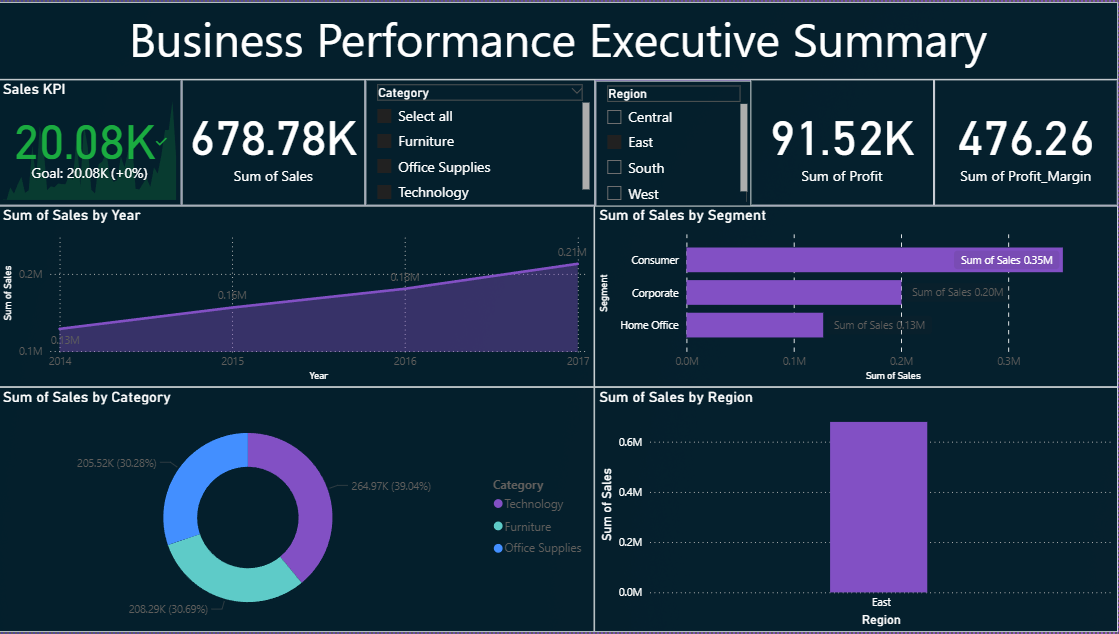

The page's visual inventory and layout, read from the dashboard file:
{"tool":"powerbi","page":{"name":"Page 1","canvas":[1280,720],"ordinal":0},"visuals":[{"type":"lineChart","fields":{"Category":["Superstore_clean.MonthYear.Variation.Date Hierarchy.Year","Superstore_clean.MonthYear.Variation.Date Hierarchy.Quarter","Superstore_clean.MonthYear.Variation.Date Hierarchy.Month","Superstore_clean.MonthYear.Variation.Date Hierarchy.Day"],"Y":["Sum(Superstore_clean.Sales)"]},"box":[0,233.3,682,207.2],"z":0},{"type":"clusteredColumnChart","fields":{"Category":["Superstore_clean.Region"],"Y":["Sum(Superstore_clean.Sales)"]},"box":[682,440.5,598.3,279.9],"z":1000},{"type":"donutChart","fields":{"Category":["Superstore_clean.Category"],"Y":["Sum(Superstore_clean.Sales)"]},"box":[0,440.5,682,279.9],"z":2000},{"type":"kpi","title":"Sales KPI","fields":{"Indicator":["Sum(Superstore_clean.Sales)"],"TrendLine":["Superstore_clean.YearMonth"],"Goal":["Sum(Superstore_clean.Sales)"]},"box":[0,89.2,209.9,144.1],"z":3000},{"type":"slicer","fields":{"Values":["Superstore_clean.Region"]},"box":[682.9,89.6,179.1,144.3],"z":4000},{"type":"slicer","fields":{"Values":["Superstore_clean.Category"]},"box":[419.9,89.2,262.1,144.1],"z":5000},{"type":"card","fields":{"Values":["Sum(Superstore_clean.Sales)"]},"box":[209.9,89.2,209.9,144.1],"z":6000},{"type":"card","fields":{"Values":["Sum(Superstore_clean.Profit)"]},"box":[860.4,89.2,209.9,144.1],"z":7000},{"type":"card","fields":{"Values":["Sum(Superstore_clean.Profit_Margin)"]},"box":[1070.3,89.2,209.9,144.1],"z":8000},{"type":"clusteredBarChart","fields":{"Category":["Superstore_clean.Segment"],"Y":["Sum(Superstore_clean.Sales)"]},"box":[682,233.3,598.3,207.2],"z":9000},{"type":"textbox","box":[0,0,1280.3,89.2],"z":10000}]}

Visuals, with their boxes in screenshot pixels (x1, y1, x2, y2), scaled from the page's 1280x720 canvas onto the 1119x634 screenshot:
lineChart - Superstore_clean.MonthYear.Variation.Date Hierarchy.Year x Superstore_clean.MonthYear.Variation.Date Hierarchy.Quarter: 0/205/596/388
clusteredColumnChart - Superstore_clean.Region x Sum(Superstore_clean.Sales): 596/388/1118/633
donutChart - Superstore_clean.Category x Sum(Superstore_clean.Sales): 0/388/596/633
"Sales KPI" kpi: 0/79/183/205
slicer - Superstore_clean.Region: 597/79/754/206
slicer - Superstore_clean.Category: 367/79/596/205
card - Sum(Superstore_clean.Sales): 183/79/367/205
card - Sum(Superstore_clean.Profit): 752/79/936/205
card - Sum(Superstore_clean.Profit_Margin): 936/79/1118/205
clusteredBarChart - Superstore_clean.Segment x Sum(Superstore_clean.Sales): 596/205/1118/388
textbox: 0/0/1118/79
